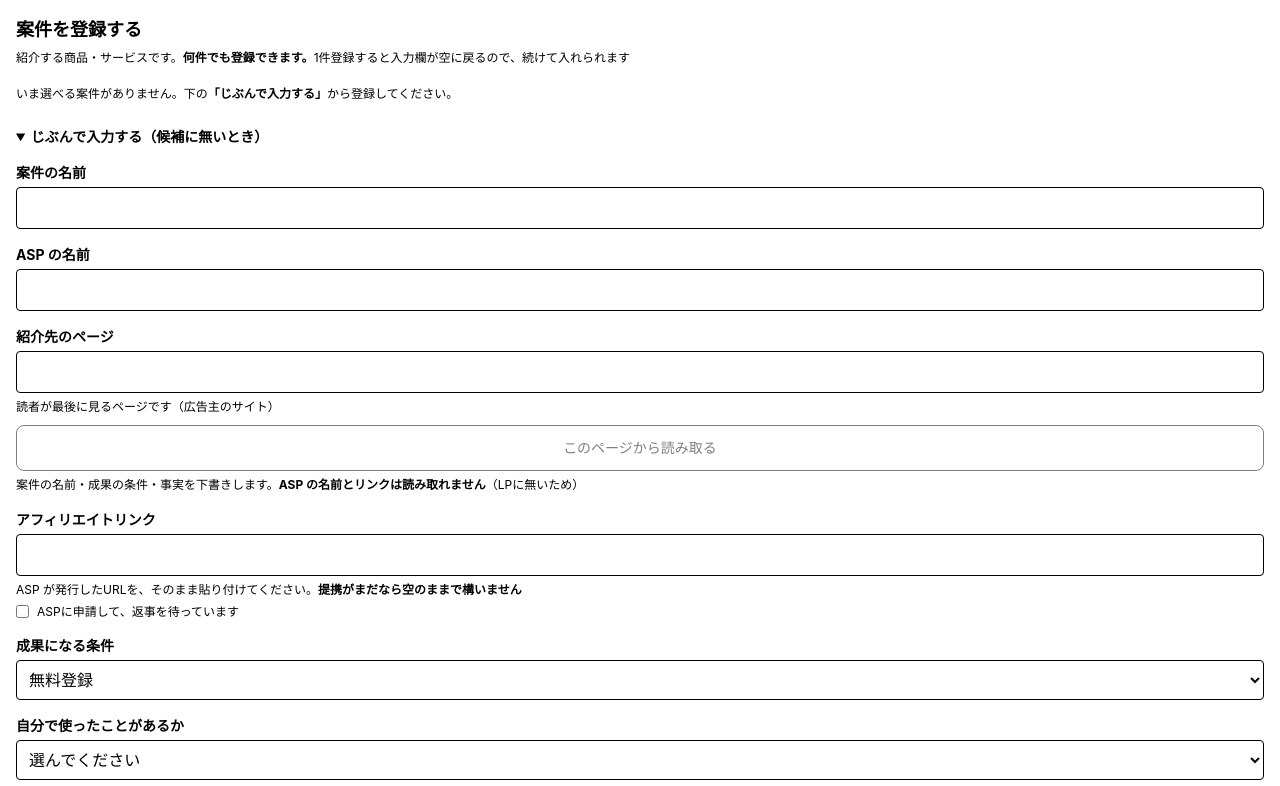
Test: 登録できる › 登録すると一覧に増え、入力欄が空に戻る
Type "格安SIM案件" into the field labelled "案件の名前". click: (640, 208)
box: 16,187 -> 1264,229
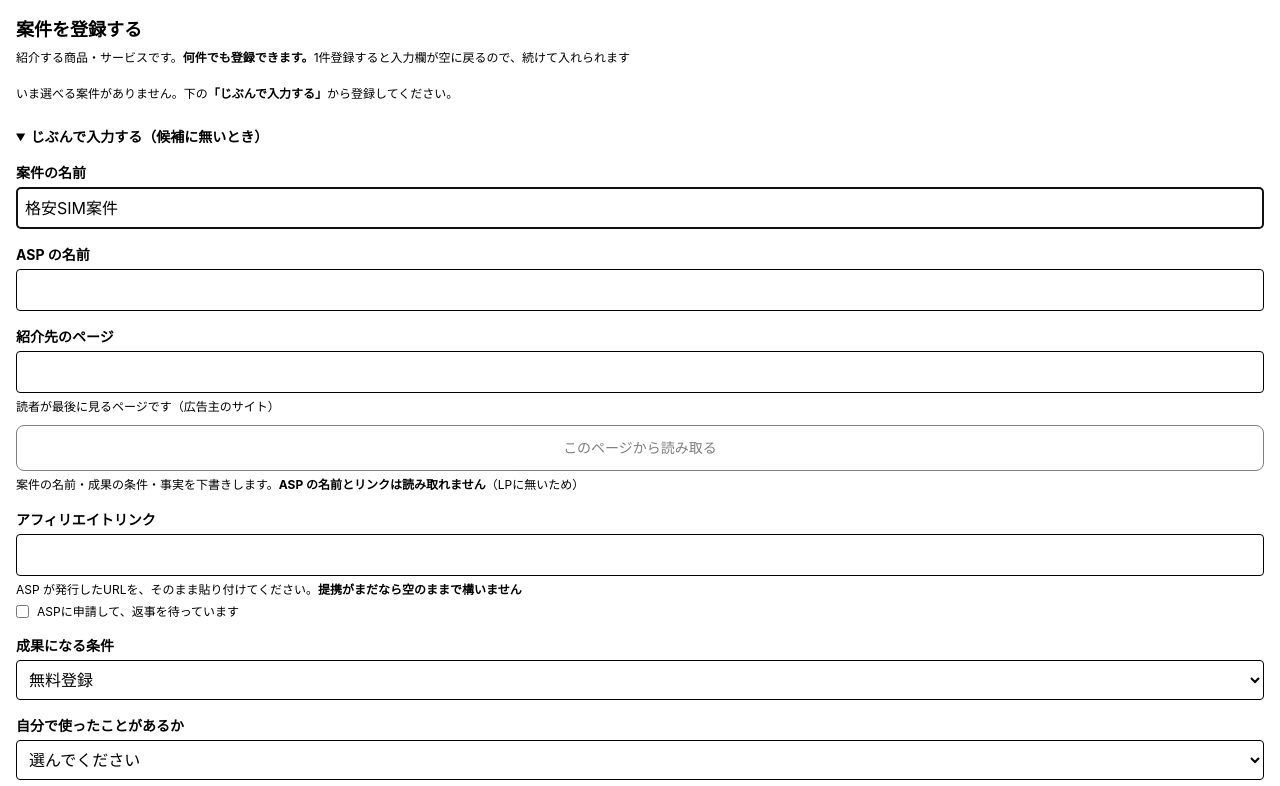
Type "サンプルASP" into the field labelled "ASP の名前". click: (640, 290)
box: 16,269 -> 1264,311
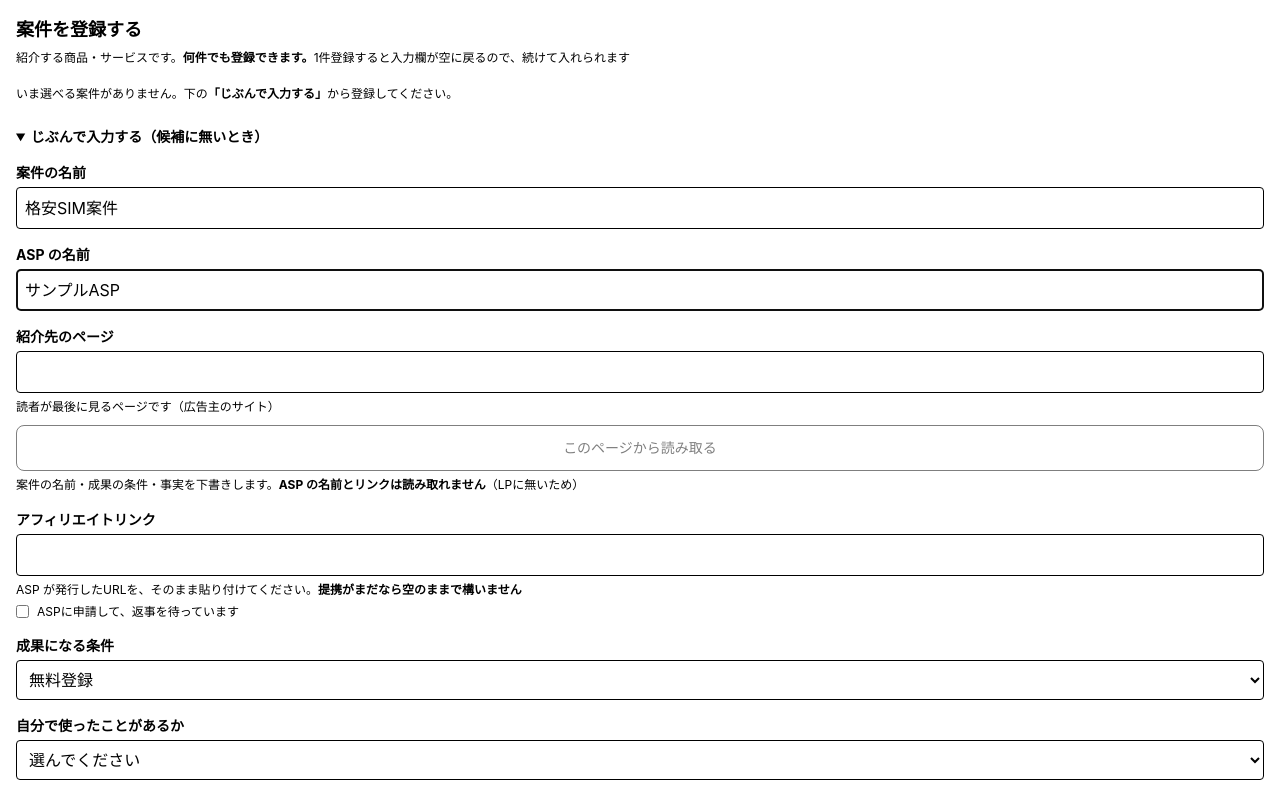
Type "https://lp.example.com/offer" into the field labelled "紹介先のページ". click: (640, 372)
box: 16,351 -> 1264,393
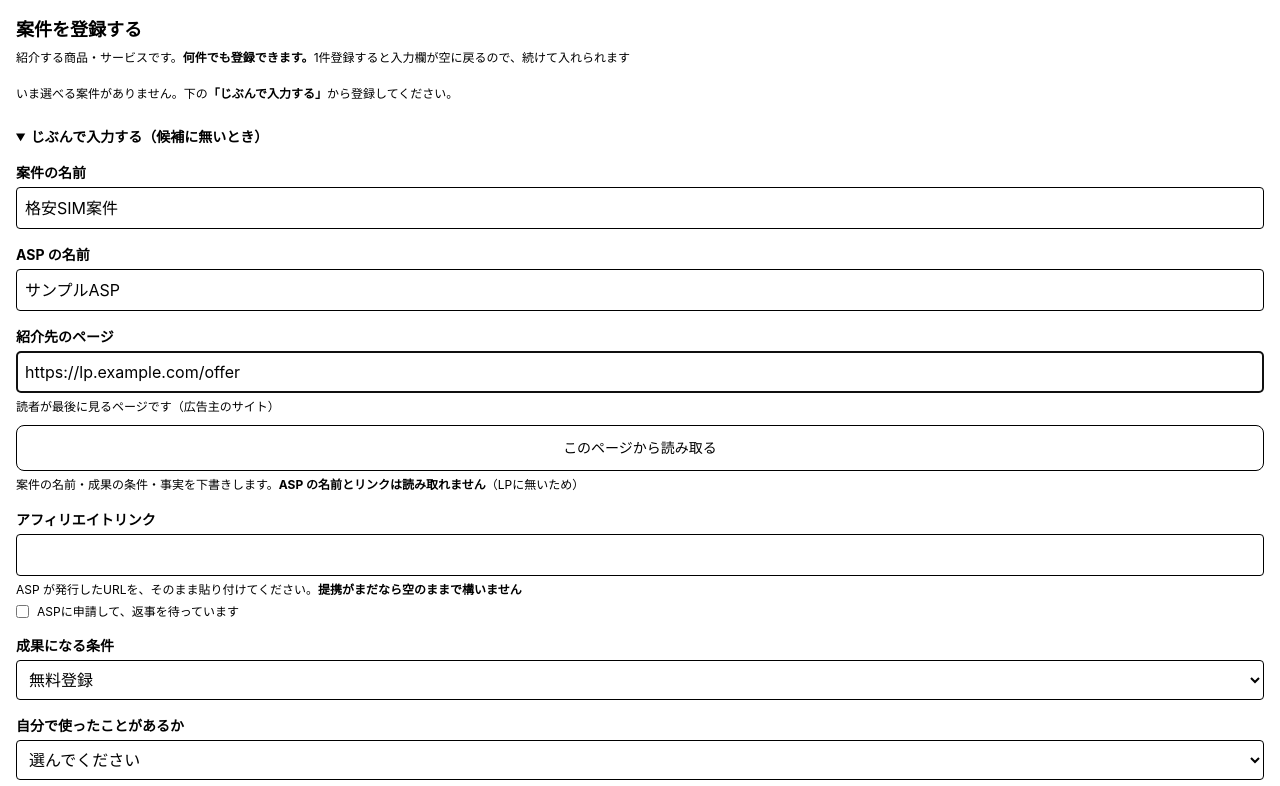
Type "https://asp.example/click?a=xxxx" into the field labelled "アフィリエイトリンク". click: (640, 555)
box: 16,534 -> 1264,576
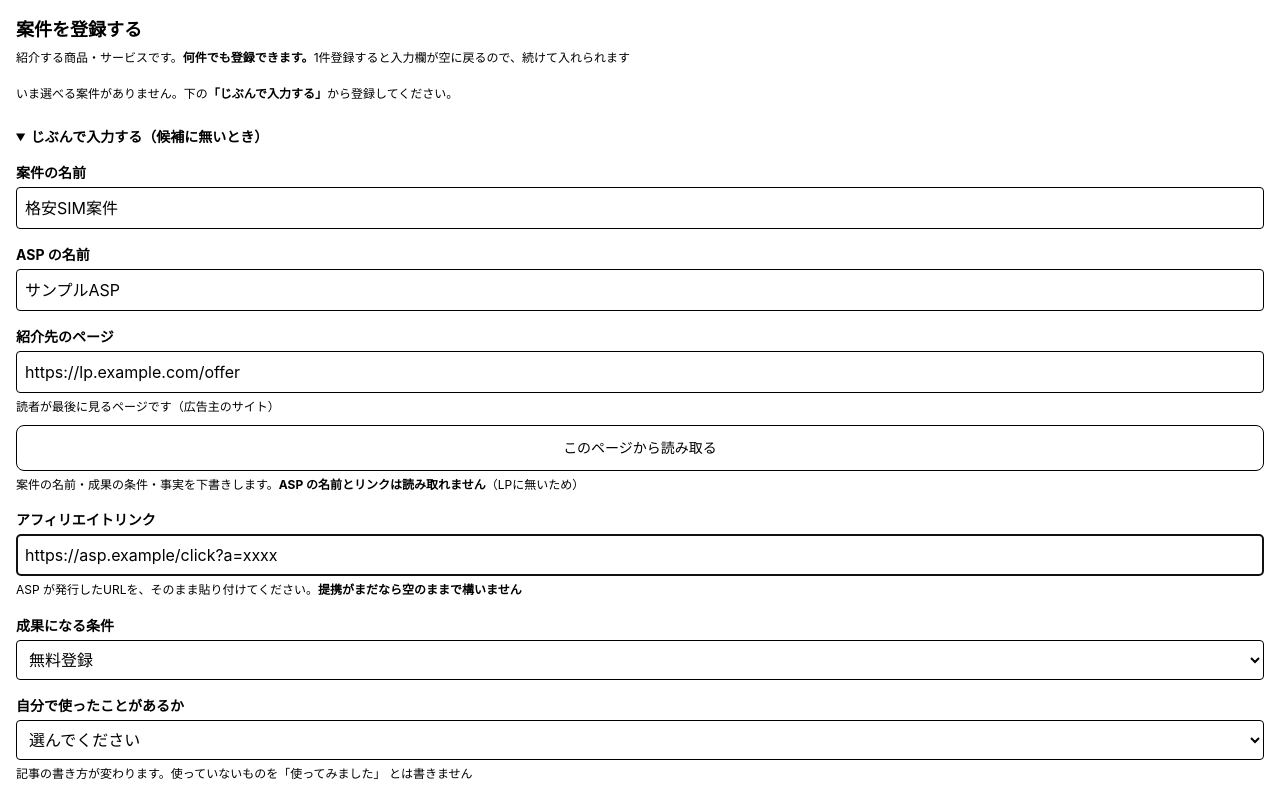
Select "使ったことがある" in the dropdown labelled "自分で使ったことがあるか". click: (640, 740)
box: 16,720 -> 1264,760
(page scrolled)
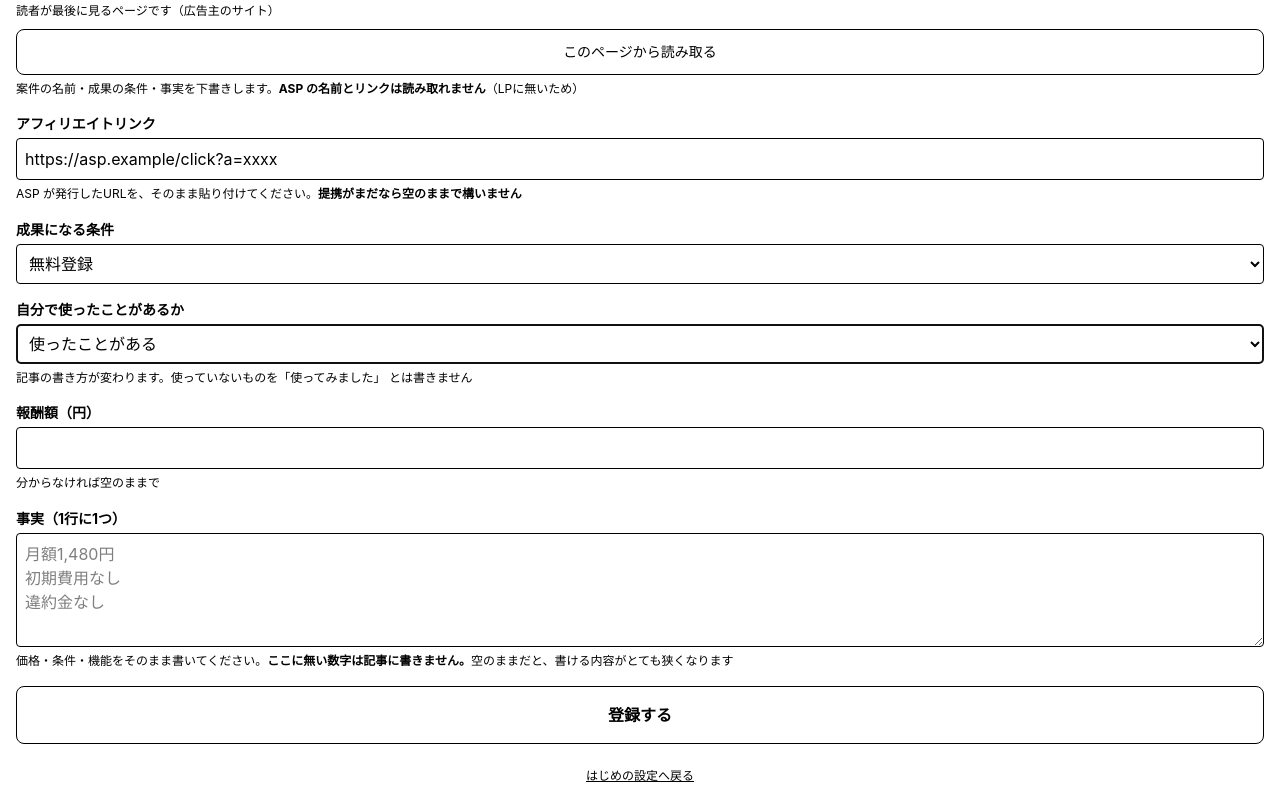
Click the button "登録する". click: (640, 715)
box: 16,686 -> 1264,744
(page scrolled)
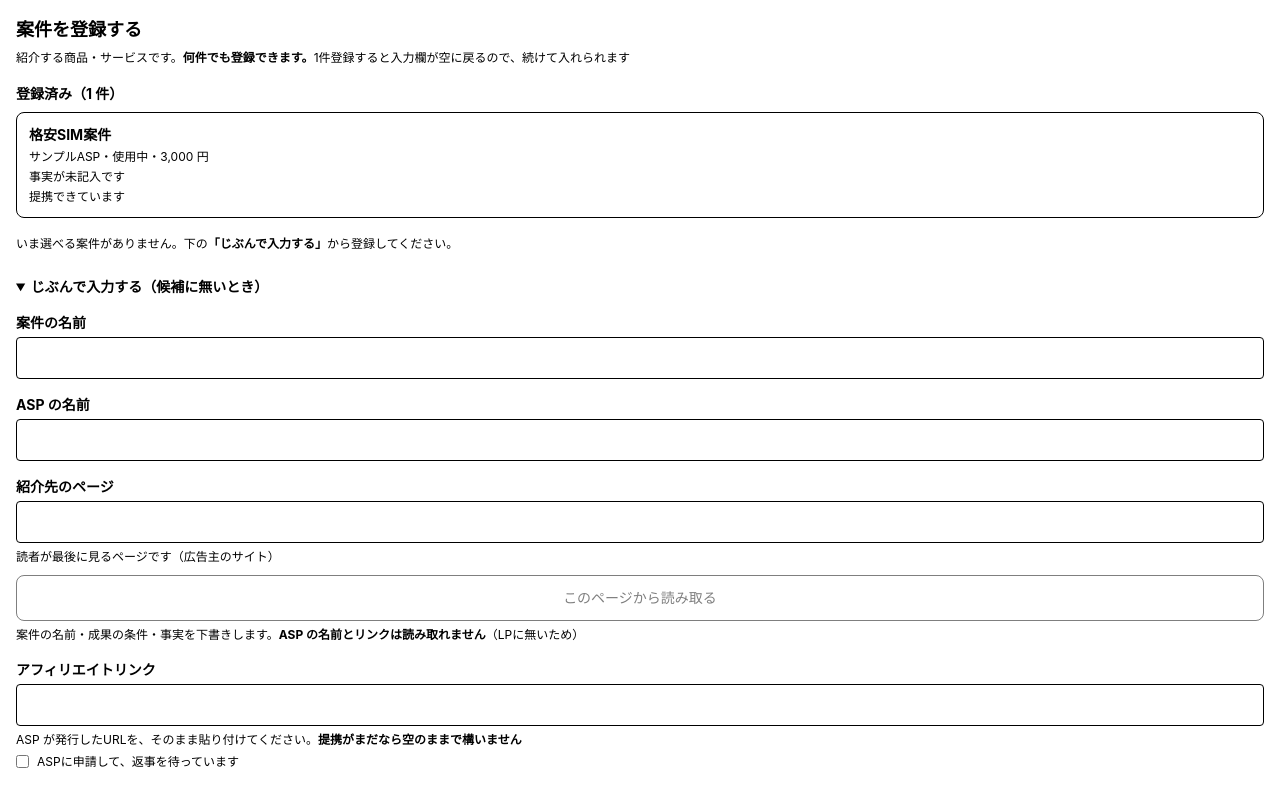
Expected: the heading "登録済み（1 件）" is shown, 16,84 -> 123,102
Expected: the field labelled "案件の名前" is empty, 16,337 -> 1264,379
